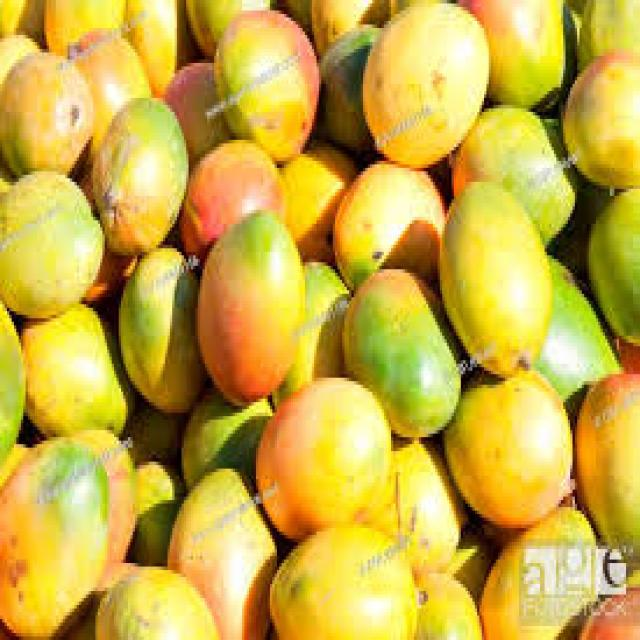mango: (193, 206, 307, 409)
